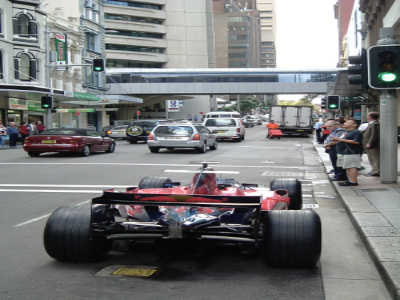licence: (43, 138, 57, 145)
